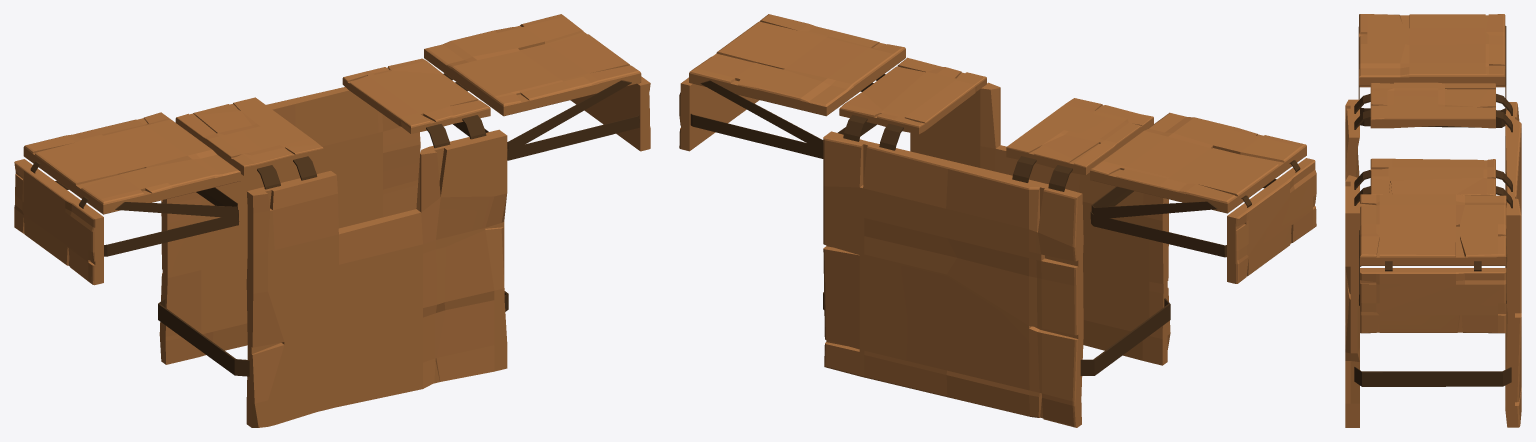
File: WoodenPadsWhole.fbx
3 renders of one model, left to right at view 1: azimuth 30°, elevation 25°; view 2: azimuth 150°, elevation 25°; view 3: azimuth 270°, elevation 25°, orthographic. The views are drawn at different scales.
Parts seen in each view (by area): view 1: Front Plate, Back Plate, Padd, Padd.002, Padd.003, right side, left side, Padd.001, front left.011, front left.007, front left.005, front left.012 (+3 smaller); view 2: Back Plate, Front Plate, Padd, Padd.002, Padd.003, right side, left side, Padd.001, front left.011, front left.007, front left.005, front left.012 (+3 smaller); view 3: Padd, Padd.002, Padd.001, right side, Back Plate, left side, Front Plate, front left.004, front left.002, front left.001, front left.003, front left.012 (+2 smaller).
Boxes of the visible parts, box(x1,y1,x2,y2) form: Front Plate: box(246, 129, 507, 427); Back Plate: box(159, 87, 420, 364); Padd: box(424, 14, 641, 116); Padd.002: box(23, 112, 240, 214); Padd.003: box(14, 159, 103, 285); right side: box(175, 97, 323, 175); left side: box(342, 58, 490, 133); Padd.001: box(570, 76, 650, 151); front left.011: box(55, 180, 239, 256); front left.007: box(453, 82, 639, 160); front left.005: box(158, 298, 249, 376); front left.012: box(115, 187, 238, 218); Back Plate: box(823, 131, 1083, 427); Front Plate: box(910, 82, 1170, 365); Padd: box(689, 14, 905, 116); Padd.002: box(1090, 112, 1306, 213); Padd.003: box(1227, 158, 1316, 283); right side: box(1006, 98, 1153, 175); left side: box(839, 57, 986, 134); Padd.001: box(679, 77, 759, 151); front left.011: box(1090, 179, 1276, 257); front left.007: box(690, 82, 876, 158); front left.005: box(1080, 298, 1170, 375); front left.012: box(1091, 186, 1217, 219); Padd: box(1360, 194, 1506, 265); Padd.002: box(1359, 14, 1505, 85); Padd.001: box(1360, 268, 1506, 333); right side: box(1370, 82, 1495, 128); Back Plate: box(1505, 102, 1521, 427); left side: box(1370, 158, 1495, 195); Front Plate: box(1345, 99, 1359, 427); front left.004: box(1354, 366, 1511, 386); front left.002: box(1496, 94, 1512, 132); front left.001: box(1354, 93, 1370, 129); front left.003: box(1496, 170, 1512, 208); front left.012: box(1358, 26, 1506, 114).
Bounding box in the file's own units: 416 × 182 × 123.
